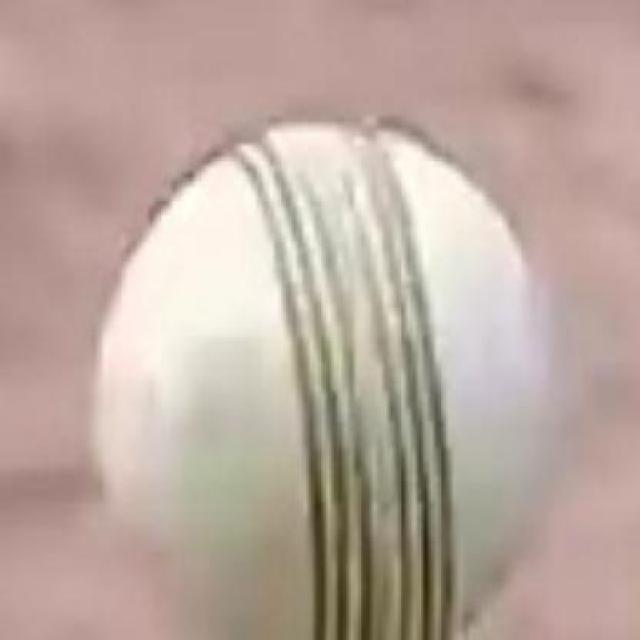-: (88, 129, 565, 640)
